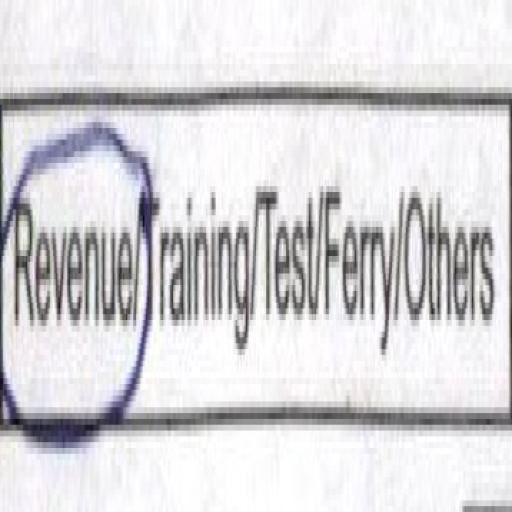check: (0, 52, 149, 504)
